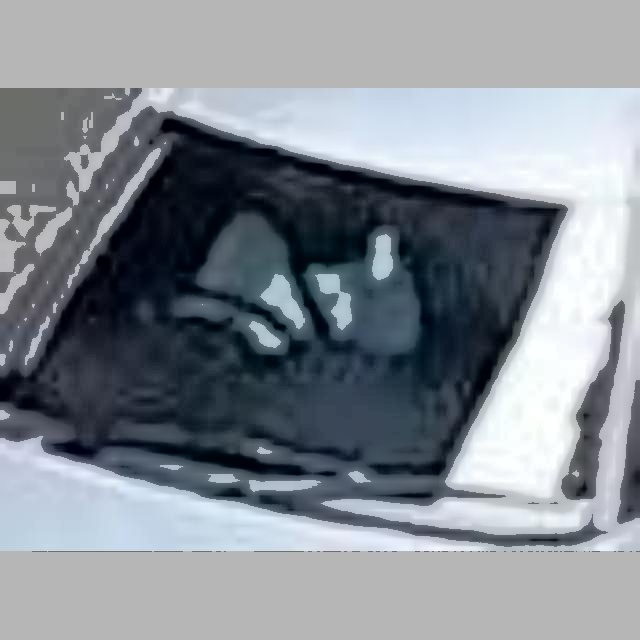pakai: (169, 162, 412, 390)
